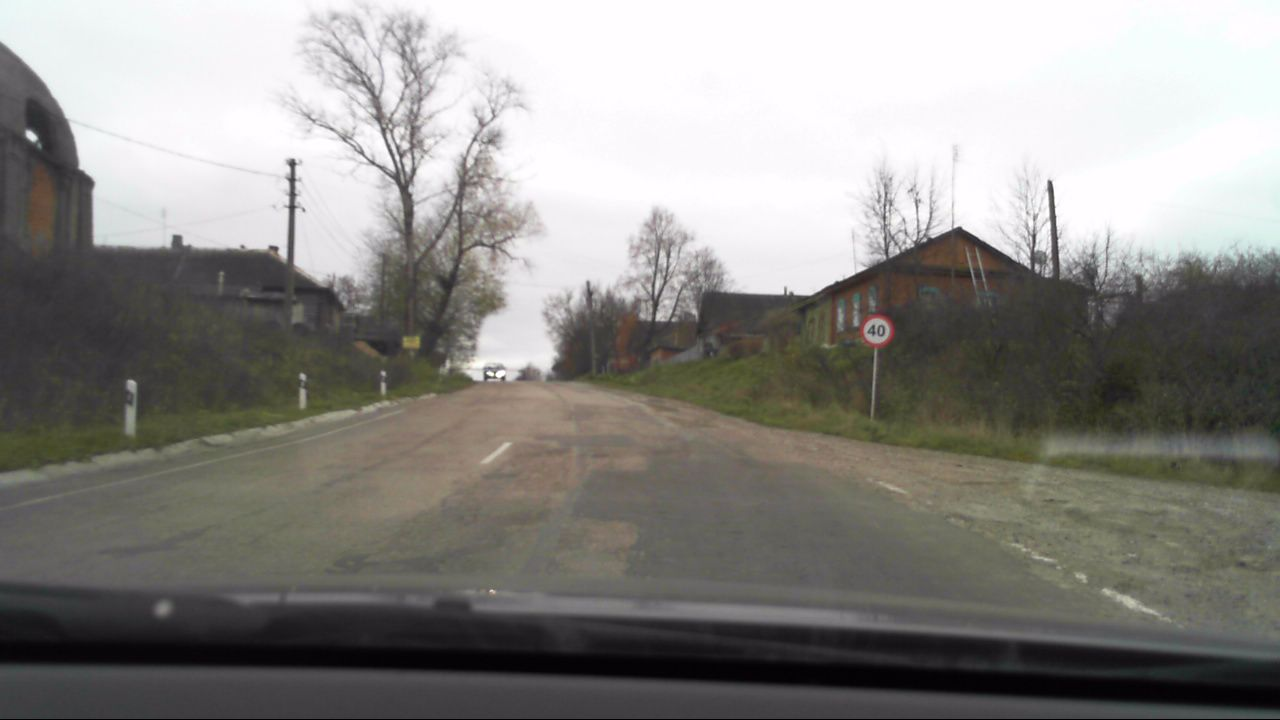speed_warning_40: (862, 313, 893, 346)
